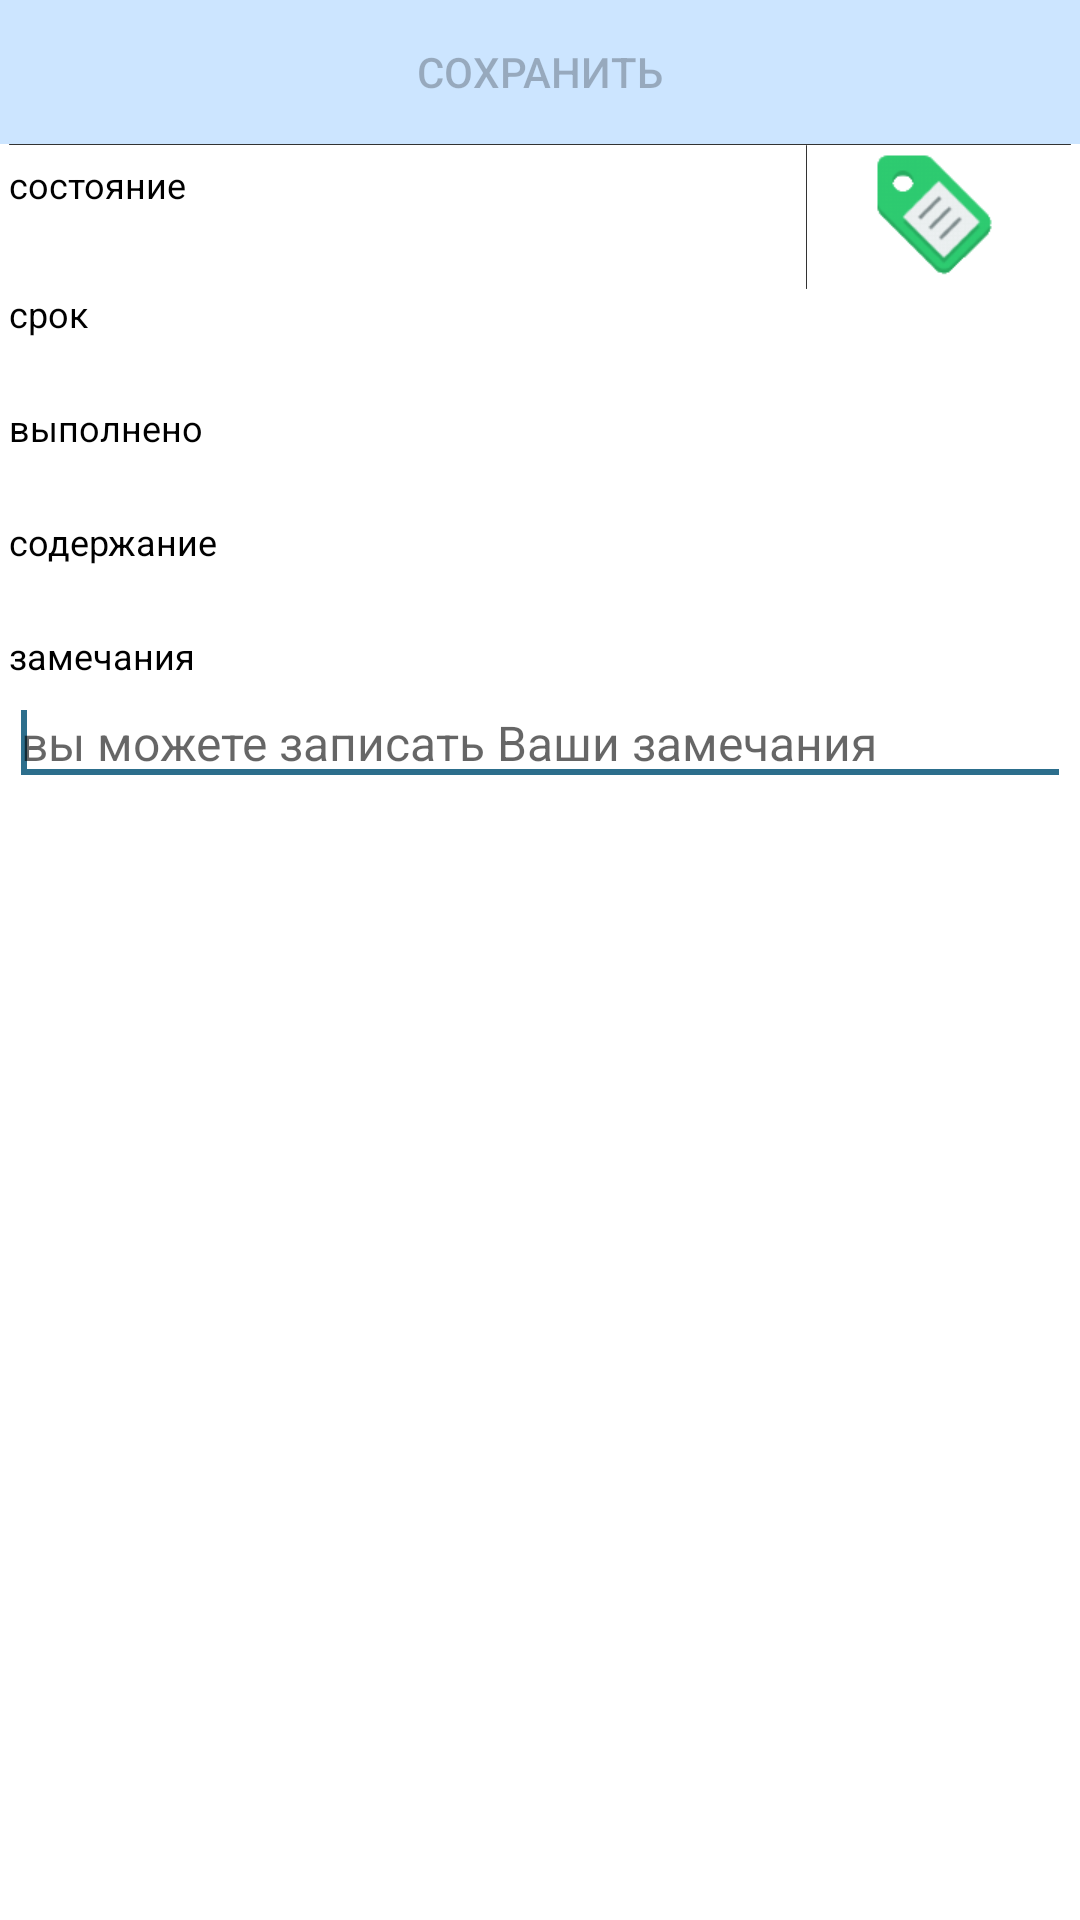

Where icons sit on this 1080w x 1920h app screen, as (x1, y1, x2, y2):
edit set lbl: (877, 155, 992, 274)
